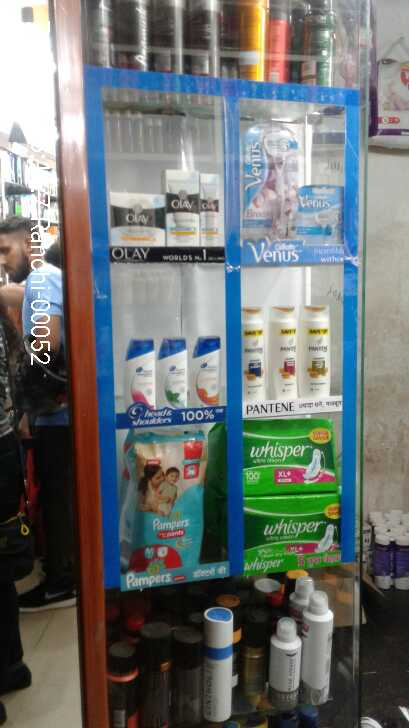venus: (243, 123, 290, 241), (293, 184, 343, 241)
